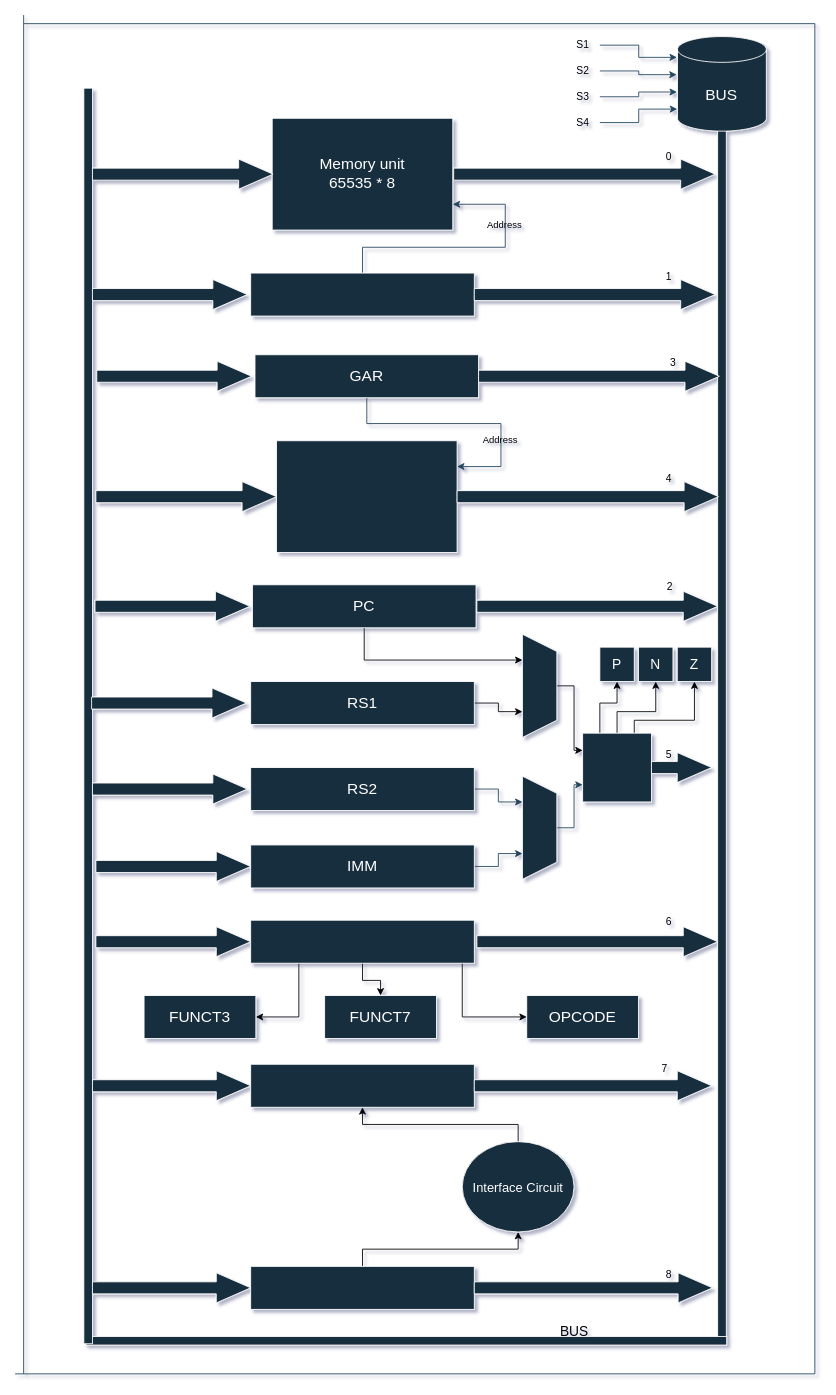
The diagram is 836 pixels wide and 1395 high, and some of its shapes have lost their labels. The centre of each missing label's shape, as x and y in pixels:
"ALU" belongs at point (616, 767).
"General Registers Unit x32" belongs at point (366, 496).
"INPR" belongs at point (362, 1085).
"IR" belongs at point (362, 941).
"MAR" belongs at point (362, 294).
"OUTR" belongs at point (362, 1287).
